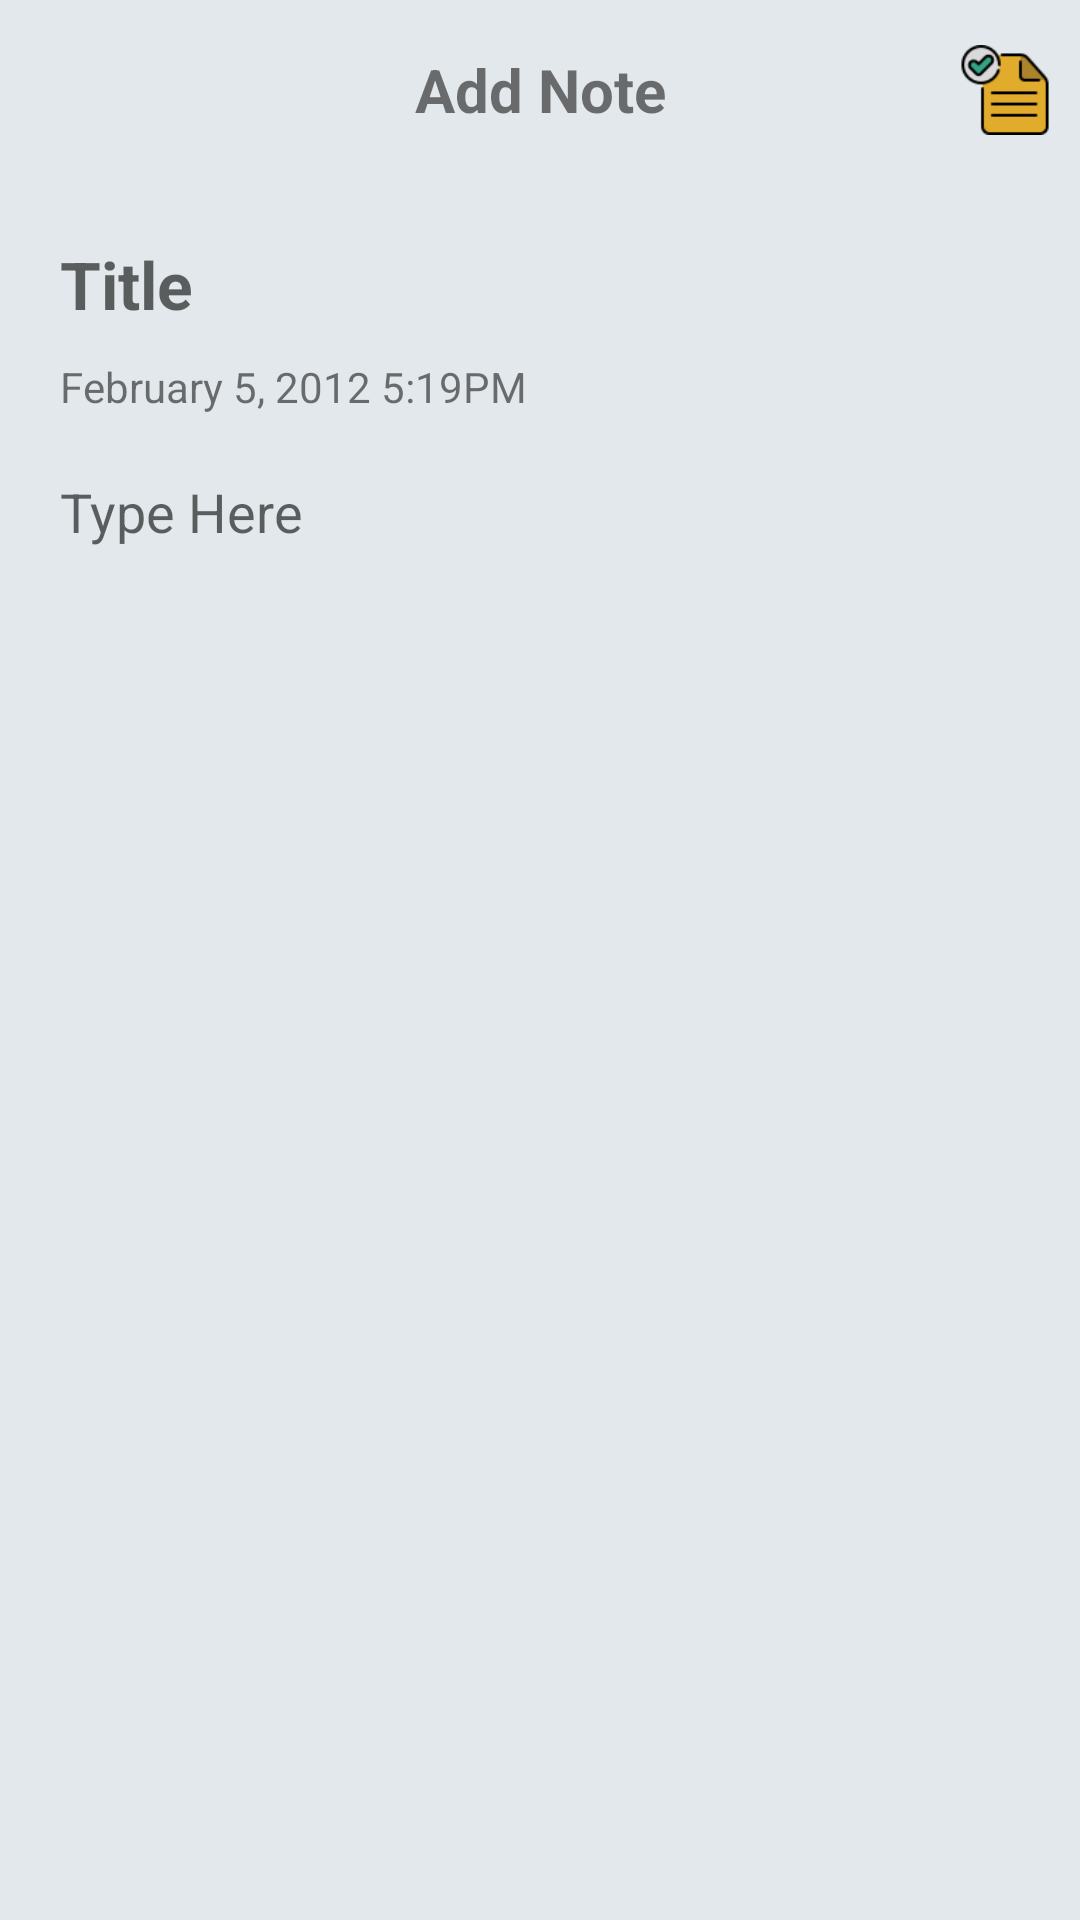

Screen size 1080px×1920px. Icon name, then its box in pixels as (left=x1, top=y1, right=x2, bottom=y2):
file: (left=961, top=45, right=1049, bottom=135)
